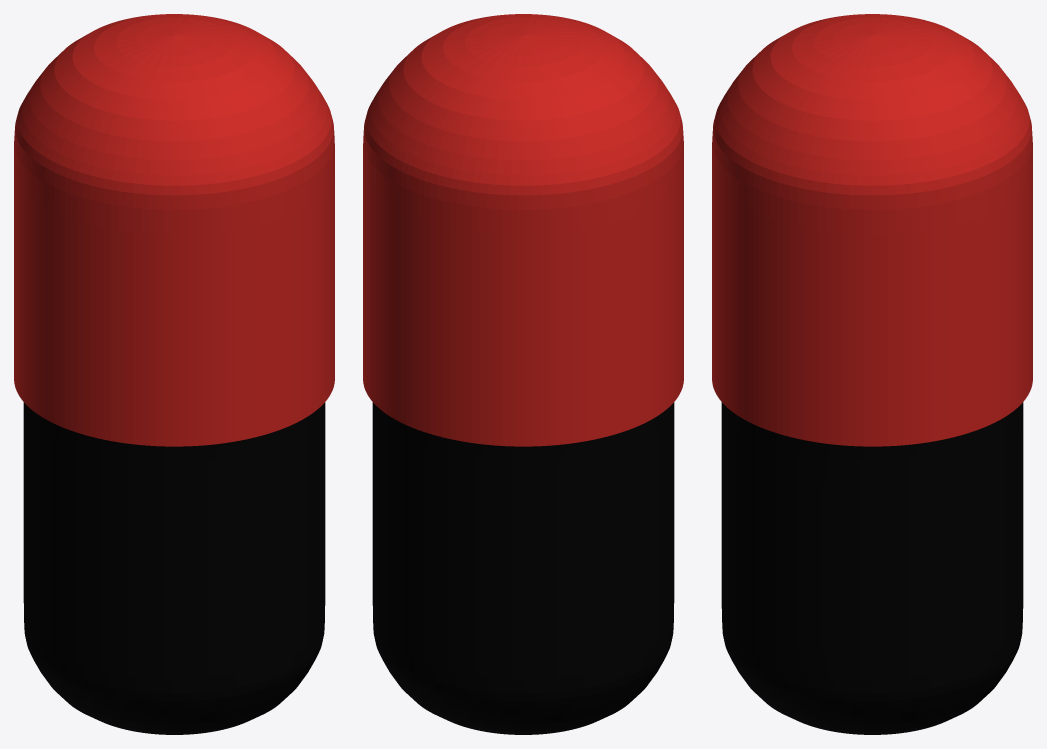
File: pill.obj
3 views of the same model, side by side, from view 1: azimuth 30°, elevation 25°; view 2: azimuth 150°, elevation 25°; view 3: azimuth 270°, elevation 25° (orthographic).
Parts seen in each view (by area): view 1: Cylinder; view 2: Cylinder; view 3: Cylinder.
Boxes of the visible parts, x1,y1,x2,y2 form: Cylinder: (14,14,334,734); Cylinder: (363,14,683,734); Cylinder: (712,14,1032,734).
Bounding box in the file's own units: 0.9284 × 2.13 × 0.9284.
